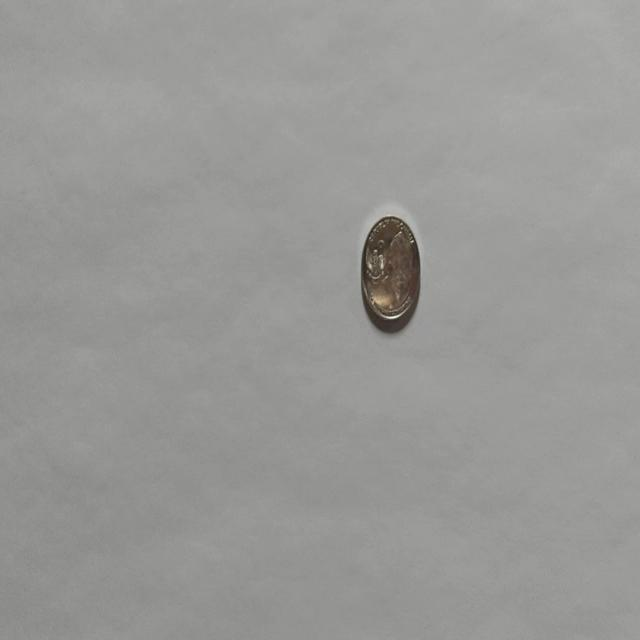dua ratus rupiah: (359, 212, 421, 332)
